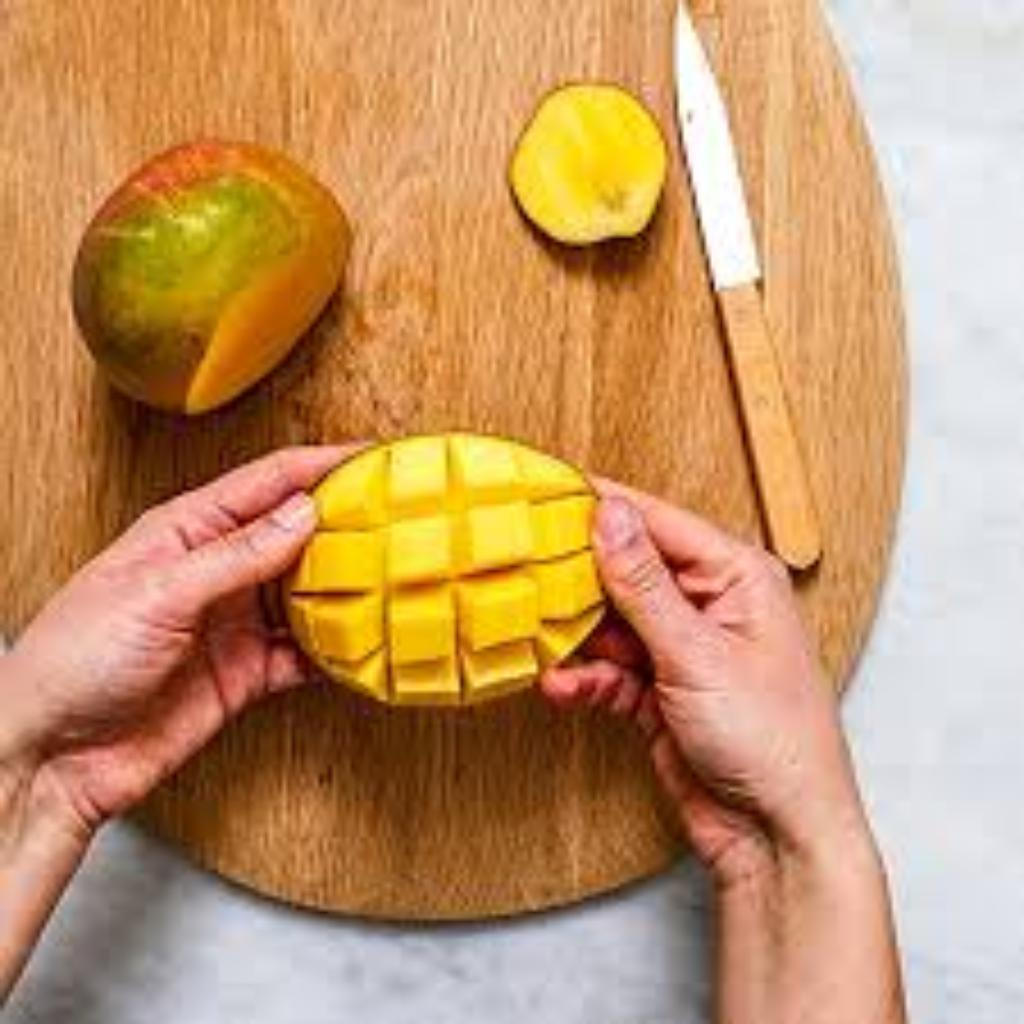mango: (269, 423, 609, 708), (72, 137, 363, 402), (496, 76, 675, 244)
